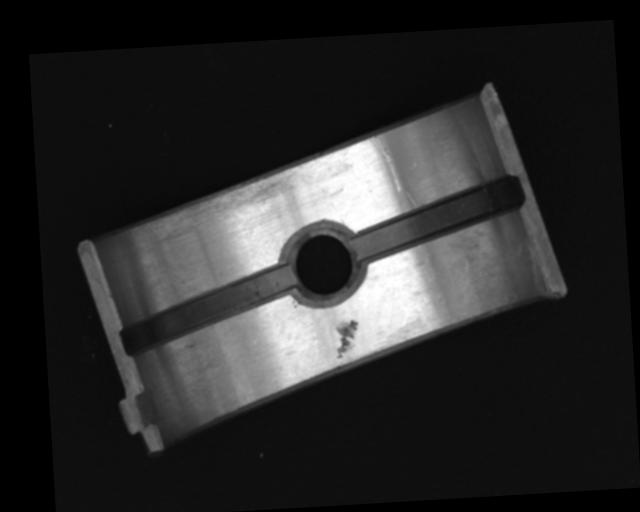bruise: (333, 318, 360, 360)
gap: (120, 262, 297, 357), (350, 176, 527, 260)
hole: (280, 223, 368, 306)
nick: (368, 133, 399, 193)
scratch: (136, 149, 359, 250)
